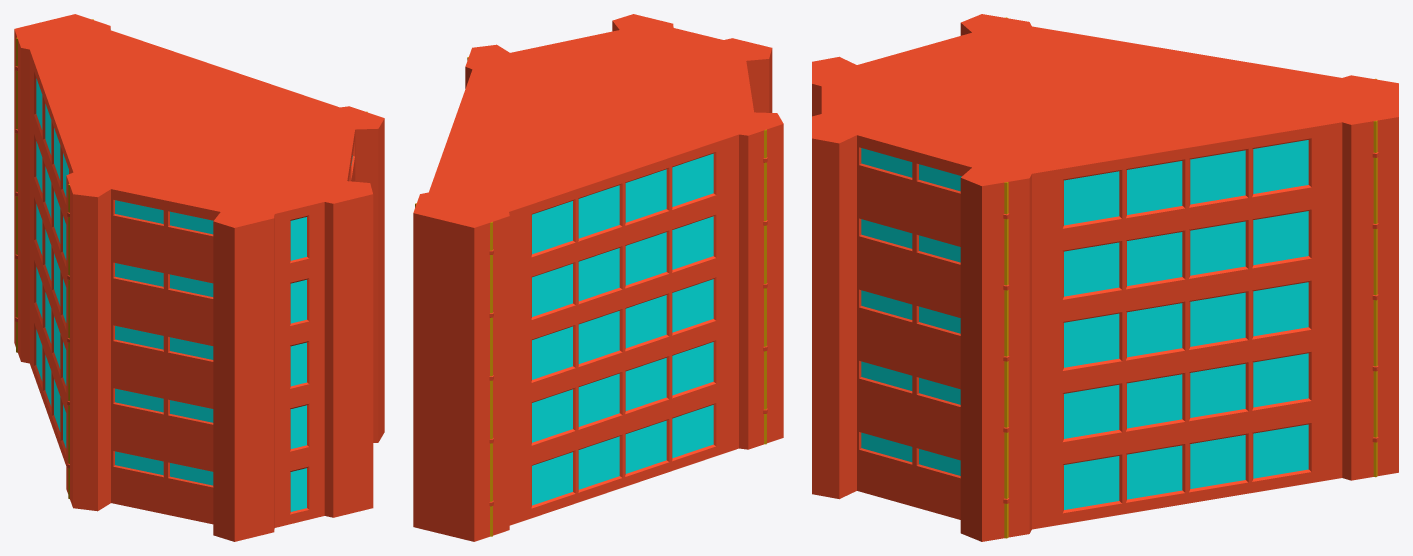
The model's file is SM_Skyscraper_C_Floor_Small_City.fbx.
The picture shows the model from 3 angles, left to right: view 1: azimuth 30°, elevation 25°; view 2: azimuth 150°, elevation 25°; view 3: azimuth 270°, elevation 25°; orthographic projection. The views are drawn at different scales.
Visible parts, largest first — view 1: SM_Skyscraper_C_Floor_Small_City; view 2: SM_Skyscraper_C_Floor_Small_City; view 3: SM_Skyscraper_C_Floor_Small_City.
Boxes of the visible parts, box(x1,y1,x2,y2) form: SM_Skyscraper_C_Floor_Small_City: box(14, 14, 384, 541); SM_Skyscraper_C_Floor_Small_City: box(413, 14, 783, 541); SM_Skyscraper_C_Floor_Small_City: box(812, 14, 1398, 541).
Size of the model in its own units: 15.58 by 15 by 22.43.
